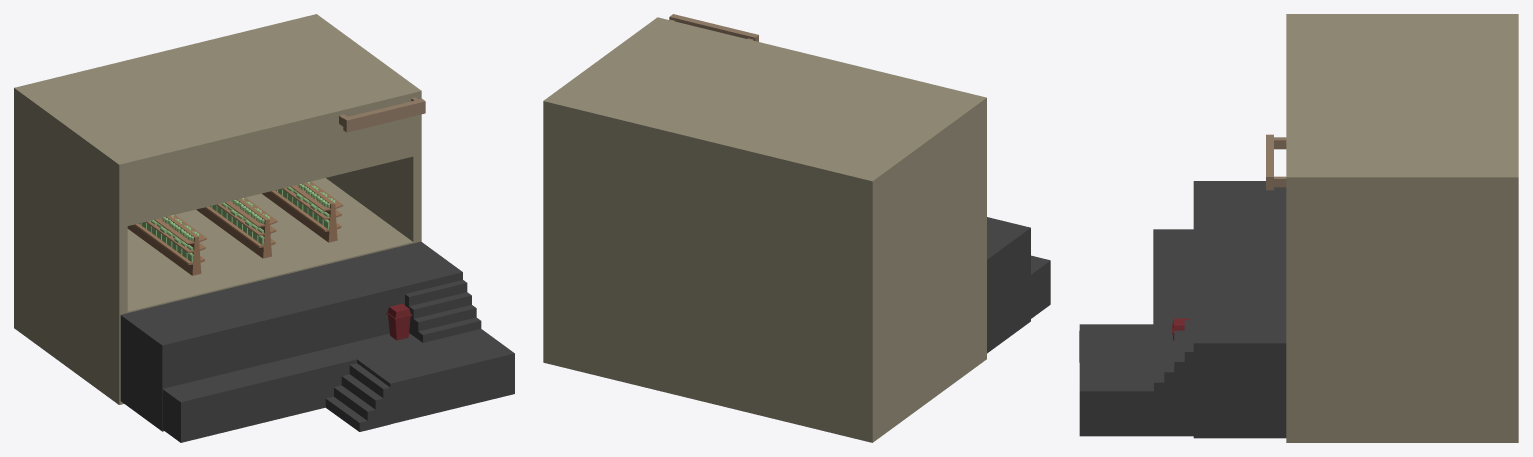
The model's file is supermarket.fbx.
3 views of the same model, side by side, from view 1: azimuth 30°, elevation 25°; view 2: azimuth 150°, elevation 25°; view 3: azimuth 270°, elevation 25° (orthographic). The views are drawn at different scales.
Parts seen in each view (by area): view 1: CreamBuildingWHOLE, UpperPlatform, LowerPlatform, UpperStairs, LowerStairs, pasted__CreamBuildingShelvesLEFT, pasted__pasted__CreamBuildingShelvesLEFT, CreamBuildingShelvesLEFT, CreamBuildingSign, LowerPlatformRedBin; view 2: CreamBuildingWHOLE, UpperPlatform, LowerPlatform, CreamBuildingSign; view 3: CreamBuildingWHOLE, UpperPlatform, LowerPlatform, UpperStairs, CreamBuildingSign.
Boxes of the visible parts, <box> form: CreamBuildingWHOLE: <box>14,14,421,404</box>; UpperPlatform: <box>120,241,462,431</box>; LowerPlatform: <box>162,329,514,442</box>; UpperStairs: <box>405,280,481,342</box>; LowerStairs: <box>325,363,390,431</box>; pasted__CreamBuildingShelvesLEFT: <box>196,197,277,258</box>; pasted__pasted__CreamBuildingShelvesLEFT: <box>262,181,343,242</box>; CreamBuildingShelvesLEFT: <box>127,215,206,275</box>; CreamBuildingSign: <box>339,97,425,132</box>; LowerPlatformRedBin: <box>386,303,412,340</box>; CreamBuildingWHOLE: <box>543,17,986,442</box>; UpperPlatform: <box>987,217,1030,353</box>; LowerPlatform: <box>1031,255,1050,318</box>; CreamBuildingSign: <box>669,14,758,41</box>; CreamBuildingWHOLE: <box>1286,14,1518,442</box>; UpperPlatform: <box>1193,181,1286,438</box>; LowerPlatform: <box>1079,229,1193,436</box>; UpperStairs: <box>1154,320,1193,391</box>; CreamBuildingSign: <box>1266,134,1286,190</box>.
Bounding box in the file's own units: 41.75 × 31.69 × 47.48.
